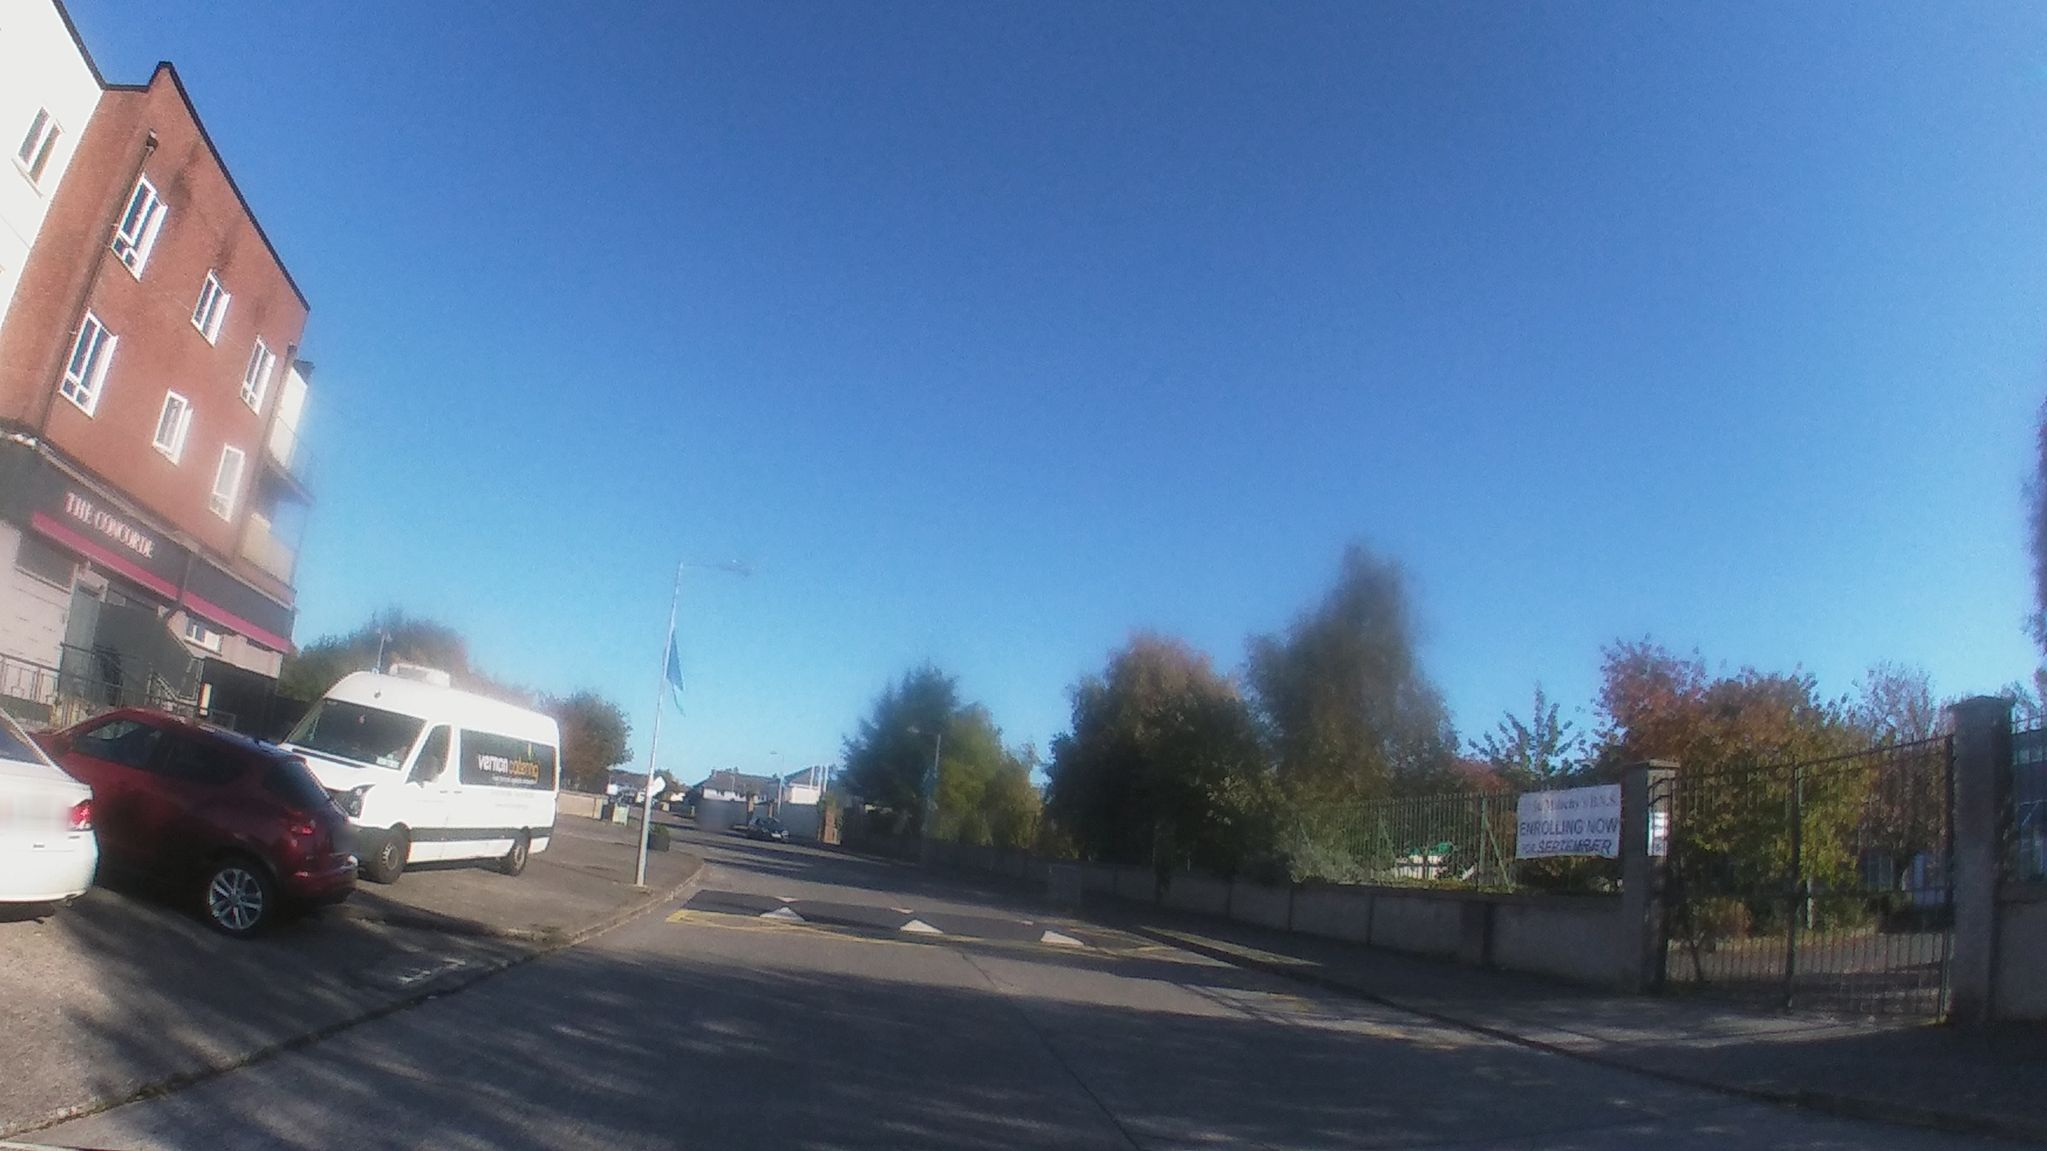vinyl banner: (1507, 773, 1629, 871)
